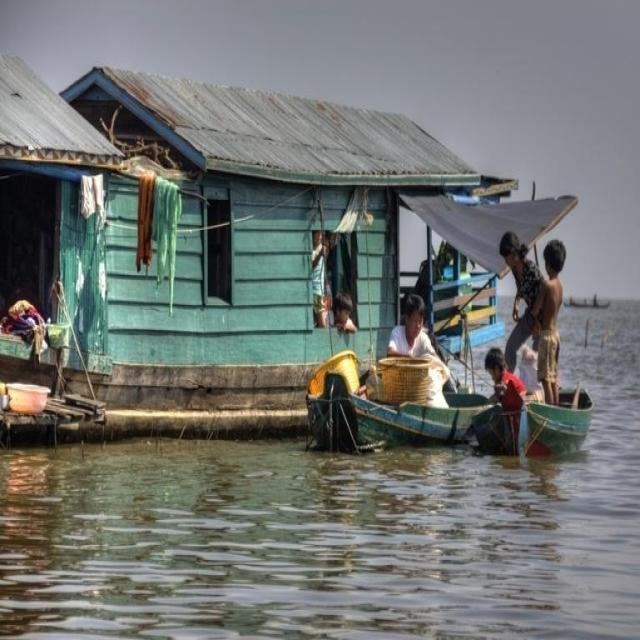boat: (304, 363, 471, 458), (484, 366, 592, 468), (558, 296, 610, 314)
